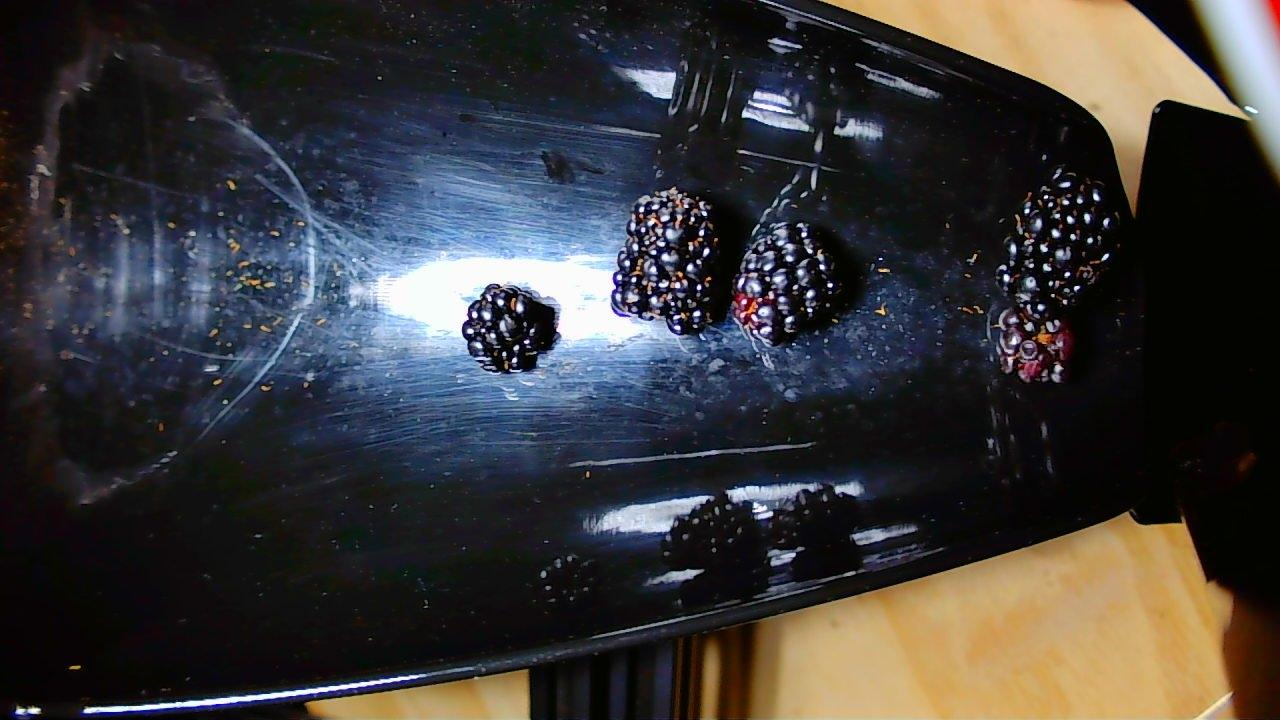berry: (616, 185, 722, 330), (1010, 170, 1121, 298), (732, 217, 838, 345), (465, 284, 555, 371), (988, 296, 1068, 384)
